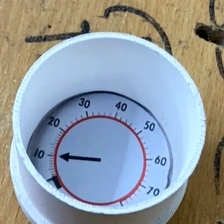gauge: (27, 90, 174, 208)
